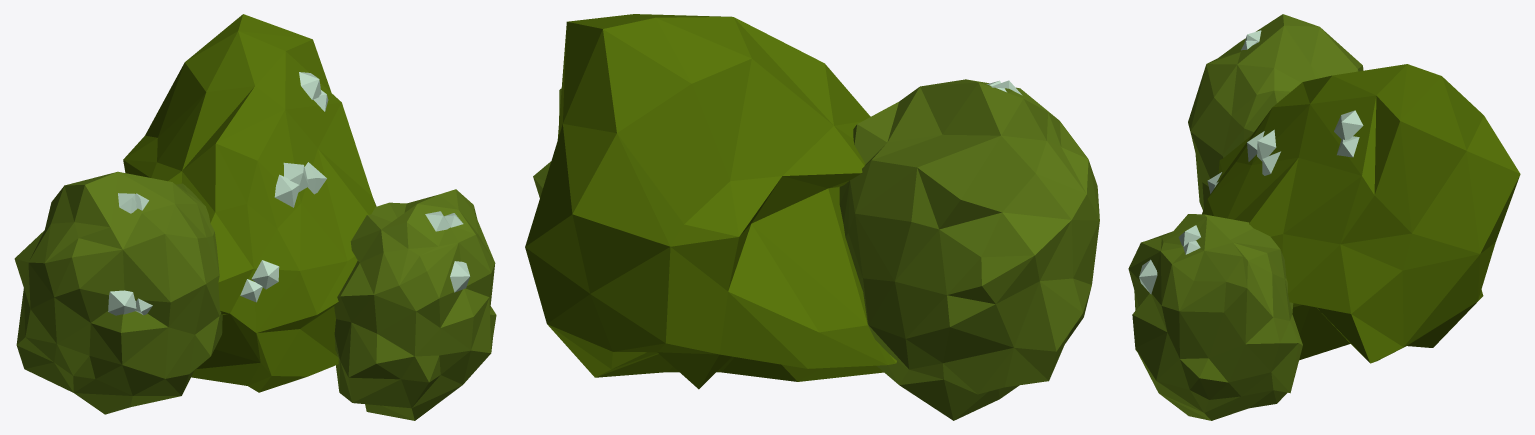
File: SM_Tree_Bush_A.glb
3 renders of one model, left to right at view 1: azimuth 30°, elevation 25°; view 2: azimuth 150°, elevation 25°; view 3: azimuth 270°, elevation 25°, orthographic. The views are drawn at different scales.
Visible parts, largest first — view 1: SM_Tree_Bush_A; view 2: SM_Tree_Bush_A; view 3: SM_Tree_Bush_A.
Part boxes in pixels (box(x1,y1,x2,y2)): SM_Tree_Bush_A: box(14, 14, 496, 420); SM_Tree_Bush_A: box(525, 14, 1099, 420); SM_Tree_Bush_A: box(1128, 14, 1520, 420).
Size of the model in its own units: 3.54 by 2.59 by 2.86.
1 material, 1 textured.
